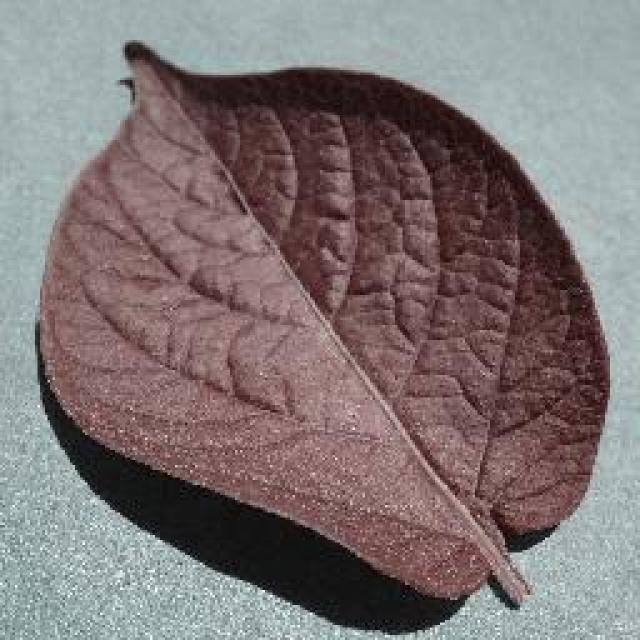Potato___healthy: (33, 35, 613, 611)
